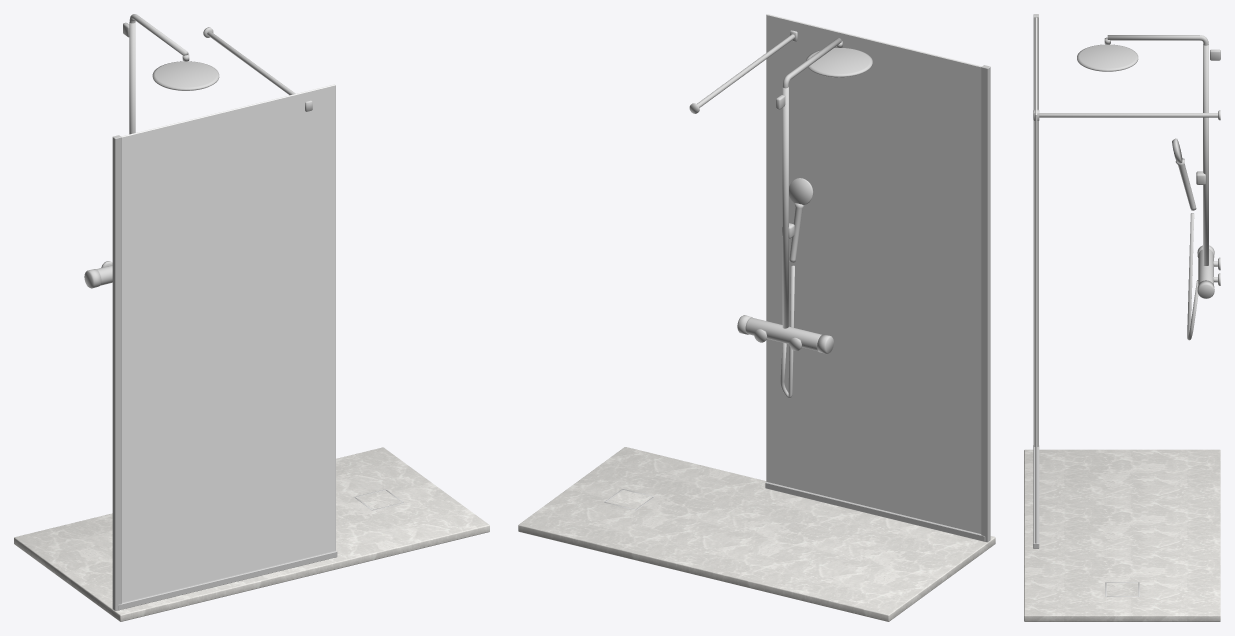
File: ducha_walk_in_80x160.glb
3 renders of one model, left to right at view 1: azimuth 30°, elevation 25°; view 2: azimuth 150°, elevation 25°; view 3: azimuth 270°, elevation 25°, orthographic. The views are drawn at different scales.
Parts seen in each view (by area): view 1: ducha_walk_in_80x160; view 2: ducha_walk_in_80x160; view 3: ducha_walk_in_80x160.
Boxes of the visible parts, bbox=[...] form: ducha_walk_in_80x160: bbox=[14, 14, 489, 621]; ducha_walk_in_80x160: bbox=[518, 14, 995, 621]; ducha_walk_in_80x160: bbox=[1024, 14, 1220, 621].
Bounding box in the file's own units: 1.6 × 2.11 × 0.8005.
Materials: 3 (1 with a texture image).
